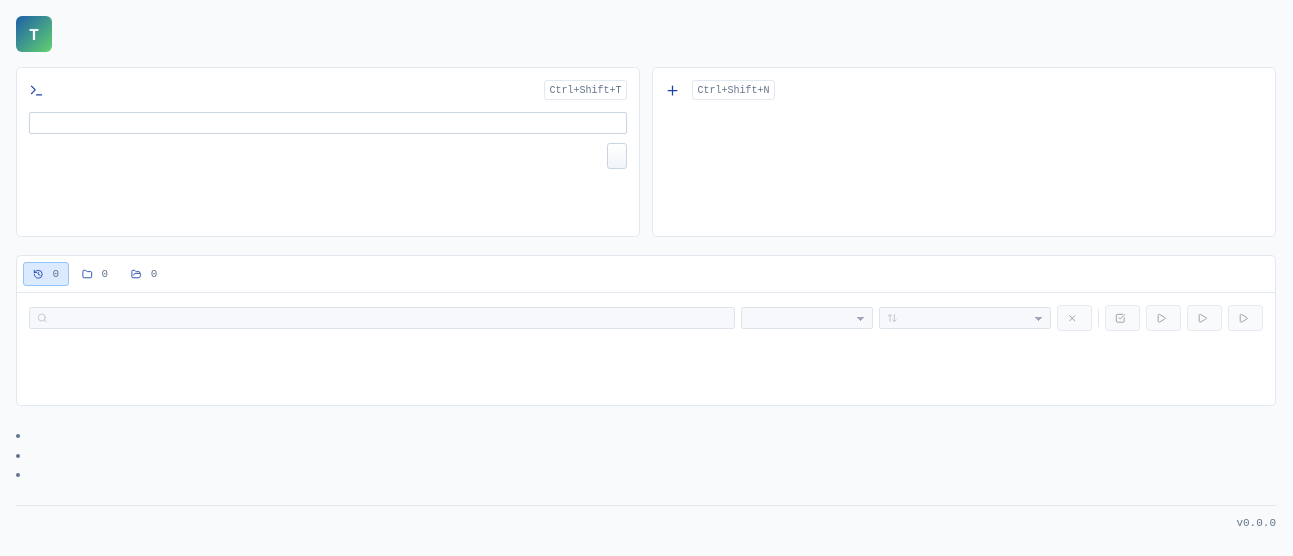
WelcomePanel directory ordering, time and errors (V-04) › shows the error state (not an empty list) on first-load failure
Click the tab with test id "welcome-history-tab-directories": click(144, 274) [121,262,167,286]
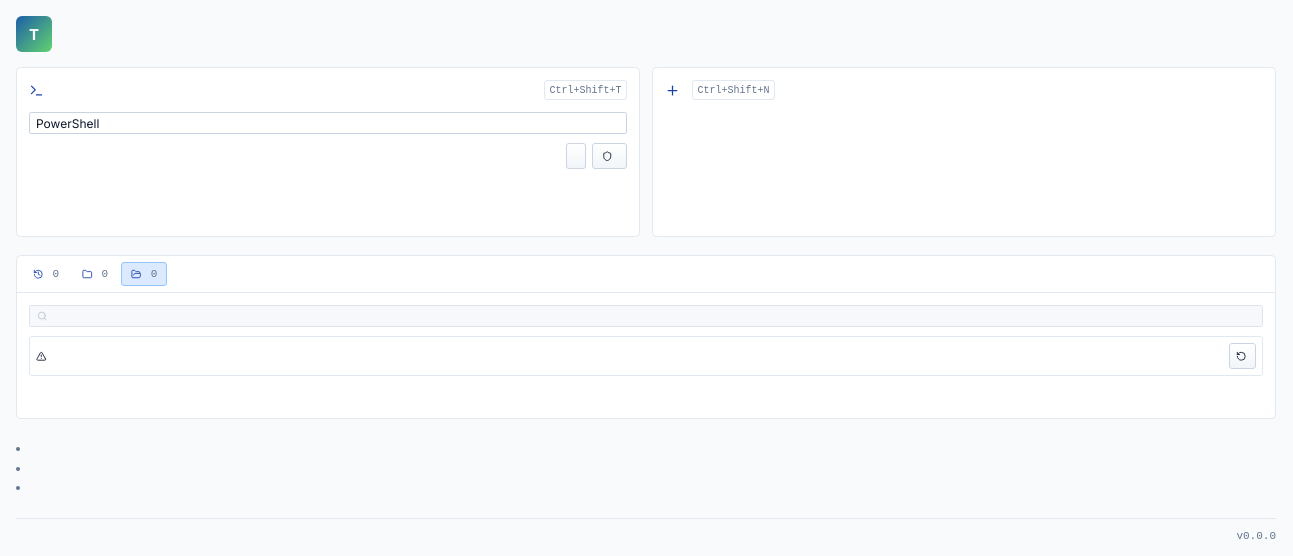
expect the message with test id "welcome-local-directories-error" is shown: met, box [29,336,1263,376]
expect the button with test id "welcome-directory-retry" is shown: met, box [1228,343,1256,369]
